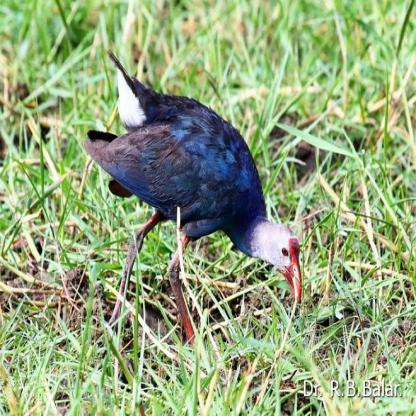Burung: (84, 52, 297, 352)
